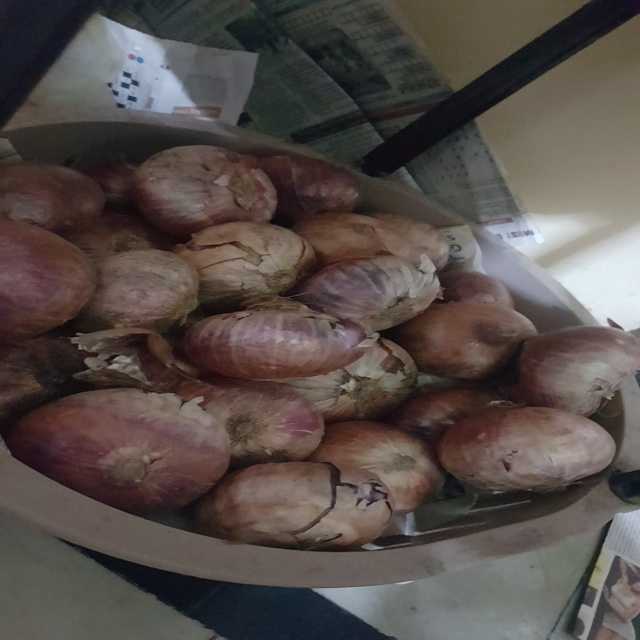onion: (14, 379, 233, 510), (438, 385, 629, 504), (218, 455, 395, 566), (202, 295, 371, 384), (178, 211, 327, 310), (130, 142, 290, 231), (512, 320, 637, 429), (185, 372, 331, 465), (319, 416, 448, 521), (1, 217, 105, 344), (418, 290, 549, 388), (91, 244, 209, 344), (303, 242, 432, 325)
